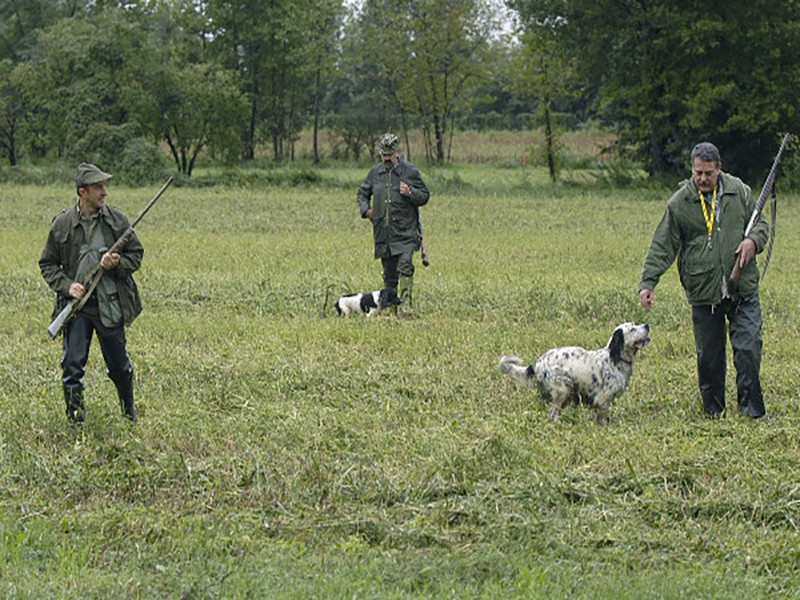cacciatore: (676, 120, 794, 427), (50, 155, 154, 422), (364, 127, 432, 316)
cane da caccia: (501, 313, 661, 411), (340, 284, 408, 319)
